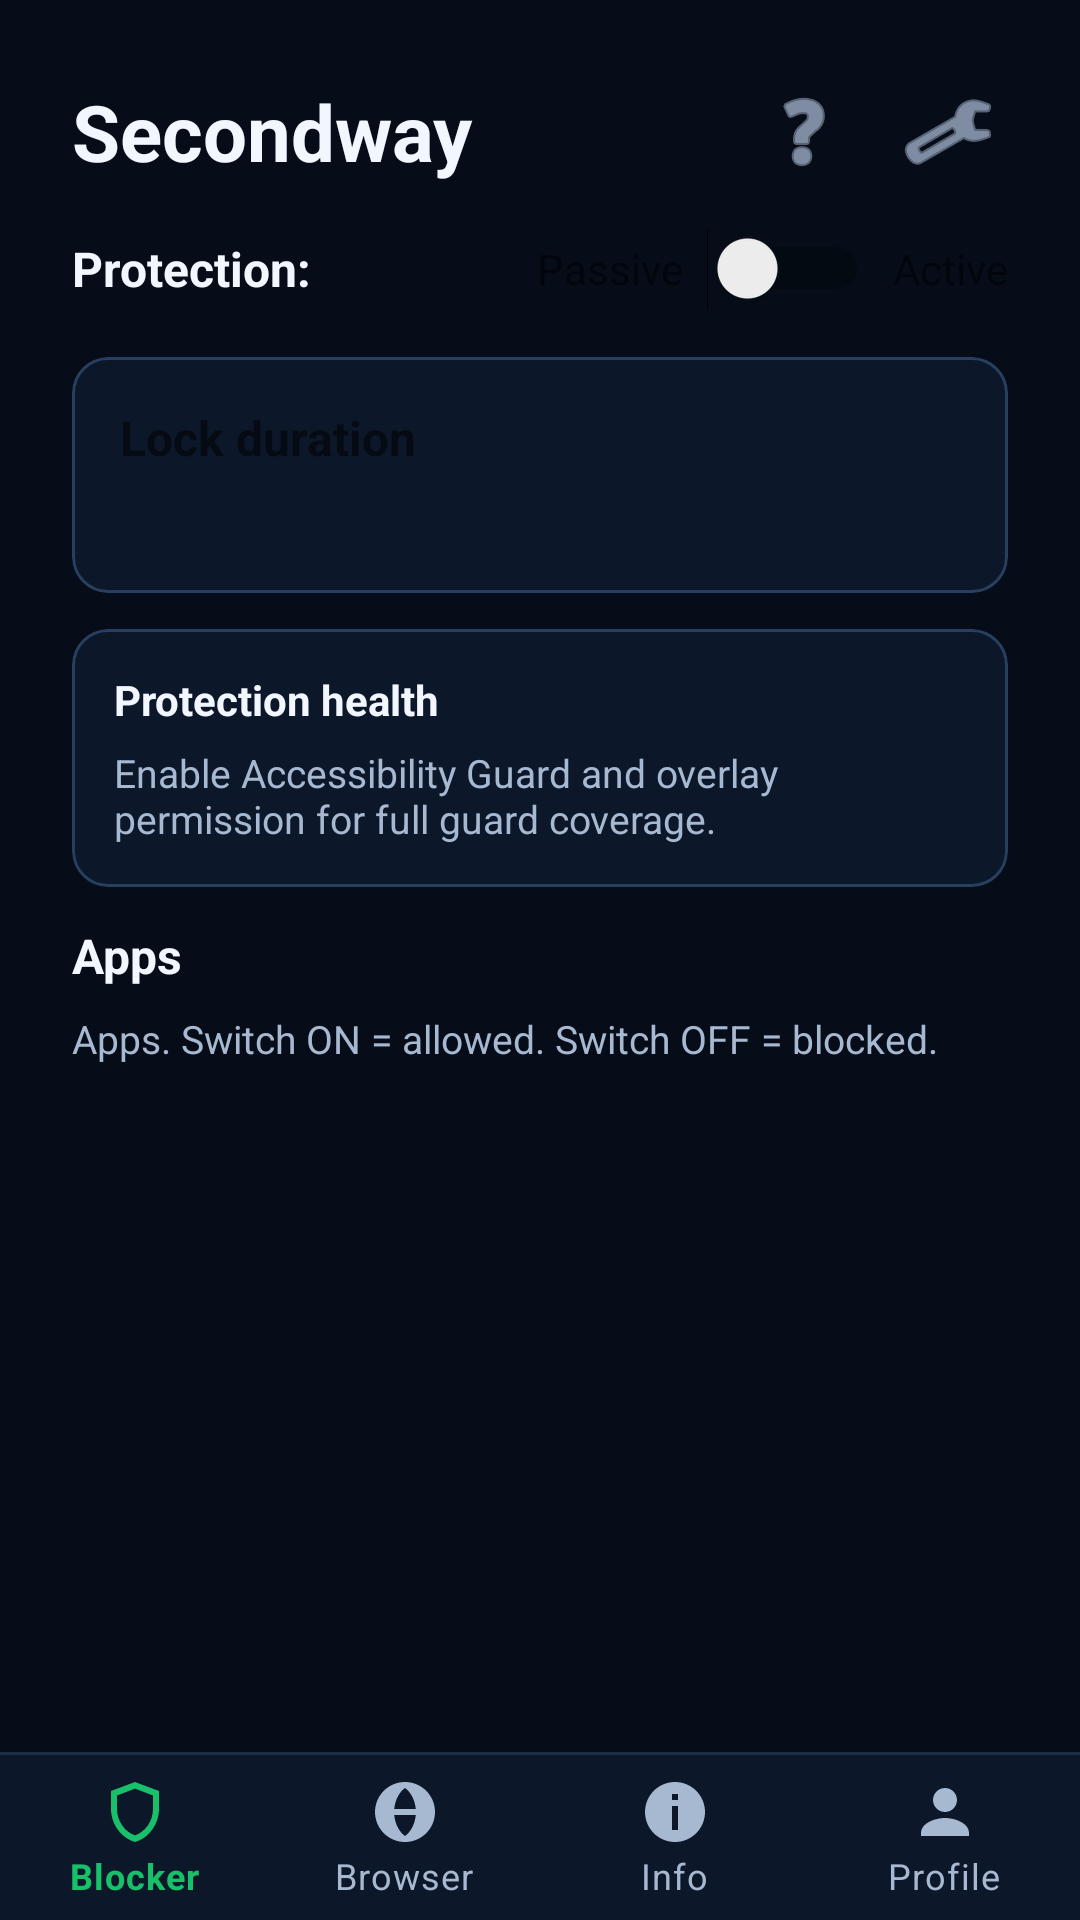

Named icons in this screenshot (1080*1920) and their bounding boxes, (x1, y1, x2, y2):
Help: (783, 98, 825, 166)
Settings: (905, 99, 991, 165)
